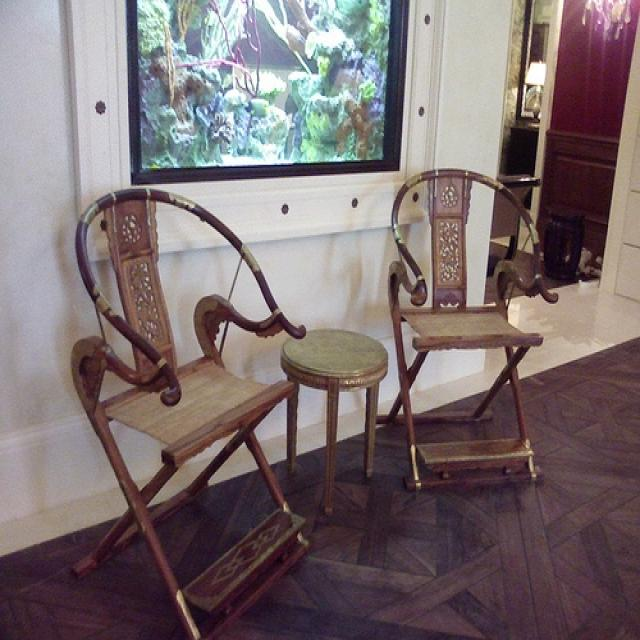chair: (65, 186, 312, 638), (385, 165, 544, 491)
